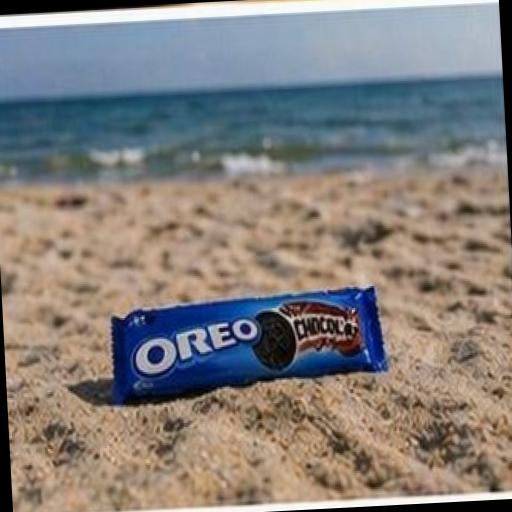oreo: (77, 237, 417, 440)
